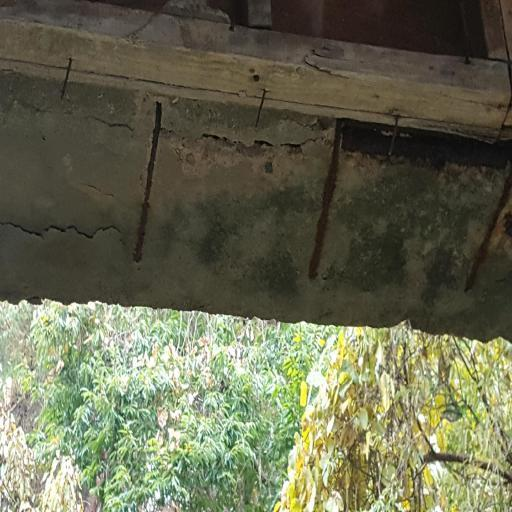exposed_rebar: (465, 165, 512, 292), (308, 119, 343, 279), (133, 101, 162, 263), (61, 57, 72, 101), (388, 116, 399, 156), (255, 89, 266, 128)
